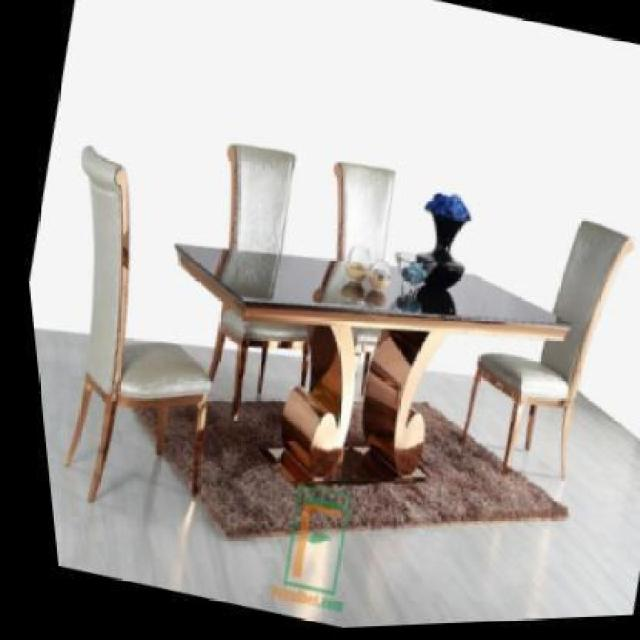tables: (172, 242, 571, 483)
